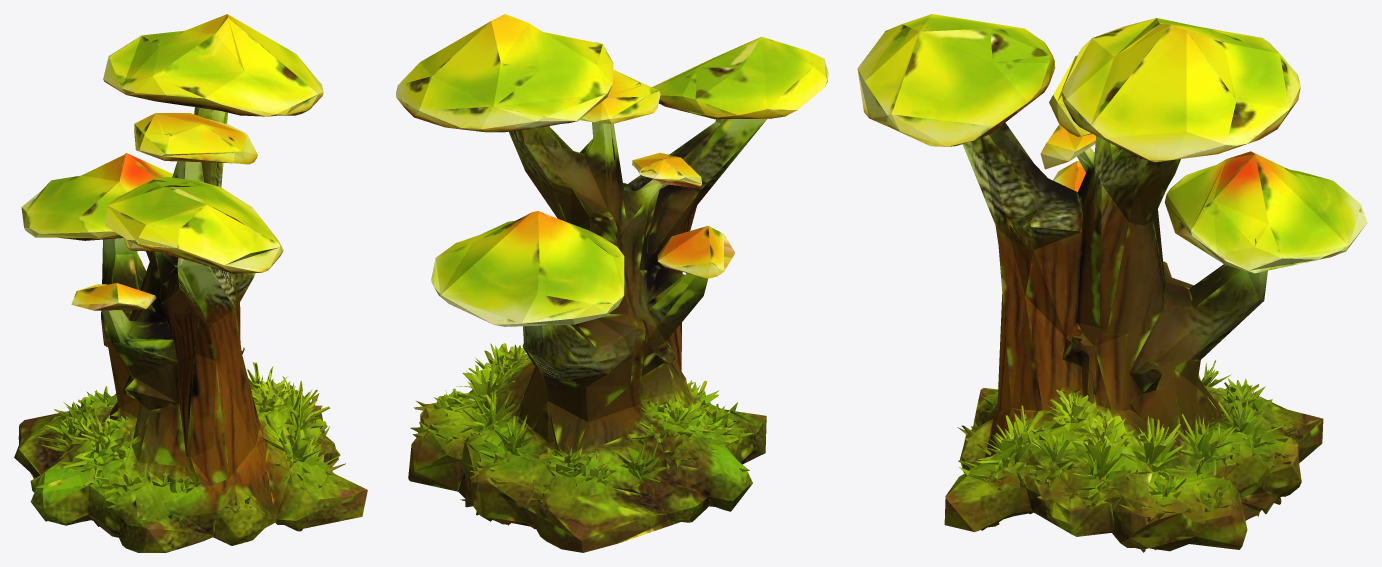
The model's file is swamp_fungus_shelf_01.glb.
3 views of the same model, side by side, from view 1: azimuth 30°, elevation 25°; view 2: azimuth 150°, elevation 25°; view 3: azimuth 270°, elevation 25° (orthographic). The views are drawn at different scales.
Parts seen in each view (by area): view 1: geometry_0; view 2: geometry_0; view 3: geometry_0.
Part boxes in pixels (<box>): geometry_0: <box>14,14,367,552</box>; geometry_0: <box>396,14,828,552</box>; geometry_0: <box>857,14,1367,552</box>.
Size of the model in its own units: 0.7132 by 0.9992 by 0.9311.
1 material, 1 textured.
